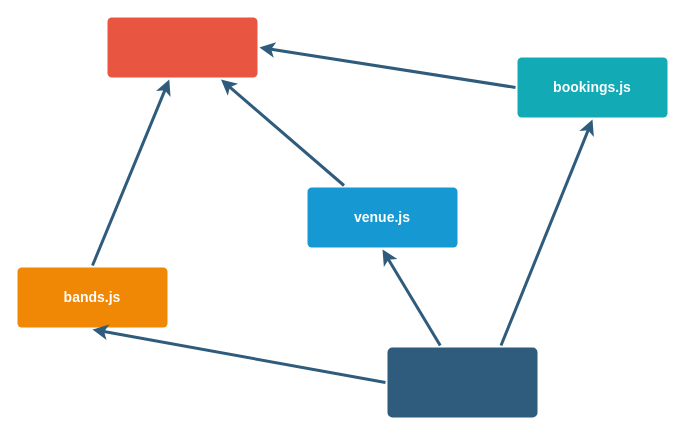
The diagram is 684 pixels wide and 434 high, and some of its shapes have lost their labels. Each missing label, with the centre of its shape:
"database.js" goes at pixel 182 47.
"main.js" goes at pixel 462 382.
